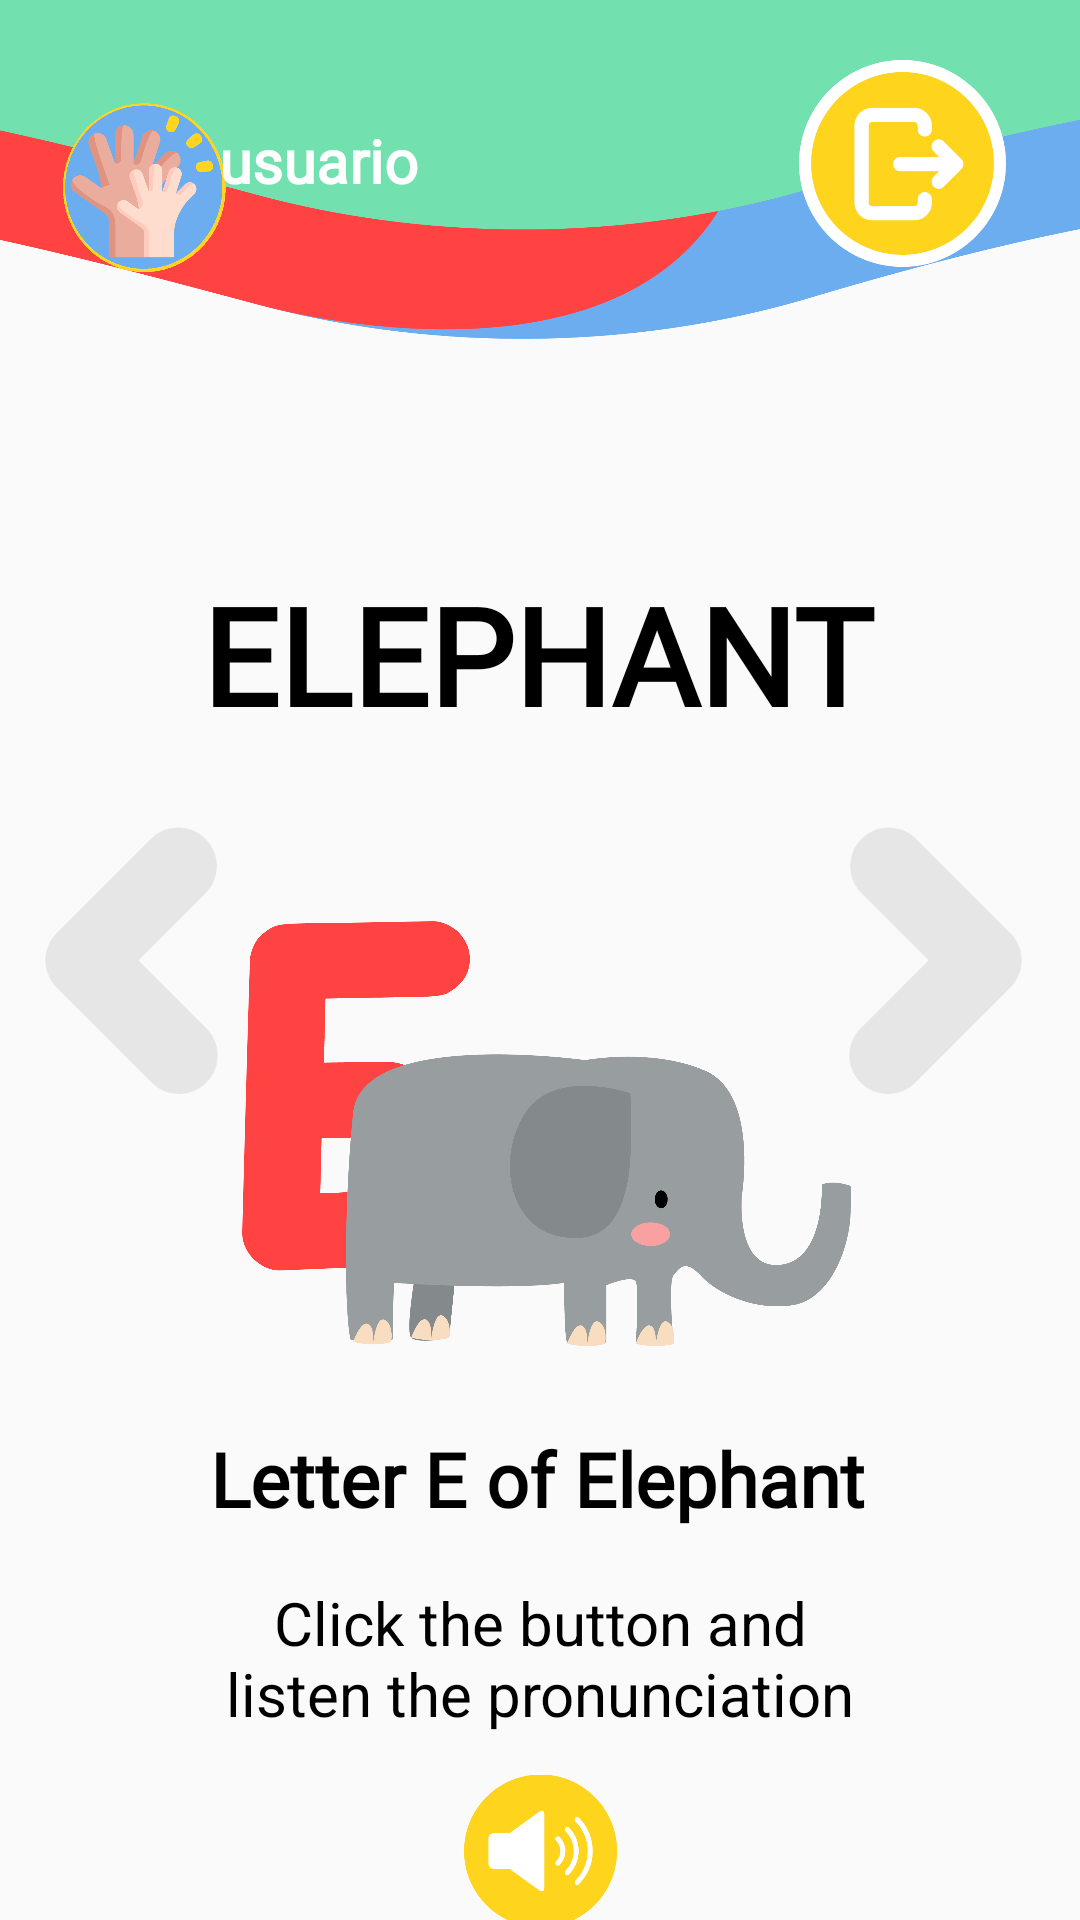

Screen size 1080px x 1920px. Icon name, then its center in pixels as point (x, y):
salir: point (902, 163)
